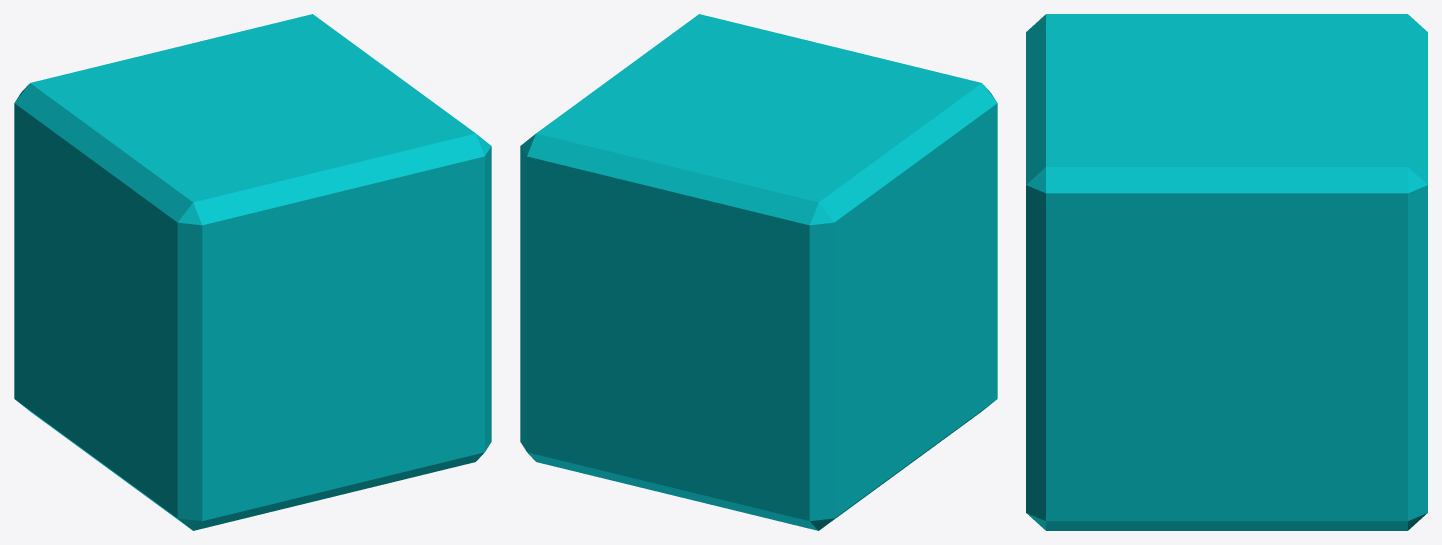
The model's file is ice_cube.obj.
3 renders of one model, left to right at view 1: azimuth 30°, elevation 25°; view 2: azimuth 150°, elevation 25°; view 3: azimuth 270°, elevation 25°, orthographic. The views are drawn at different scales.
Visible parts, largest first — view 1: Cone; view 2: Cone; view 3: Cone.
Boxes of the visible parts, x1,y1,x2,y2 form: Cone: [14, 14, 491, 530]; Cone: [520, 14, 997, 530]; Cone: [1026, 14, 1427, 530].
Bounding box in the file's own units: 2 × 2 × 2.
